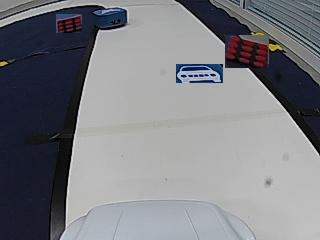prop: (93, 8, 127, 30)
